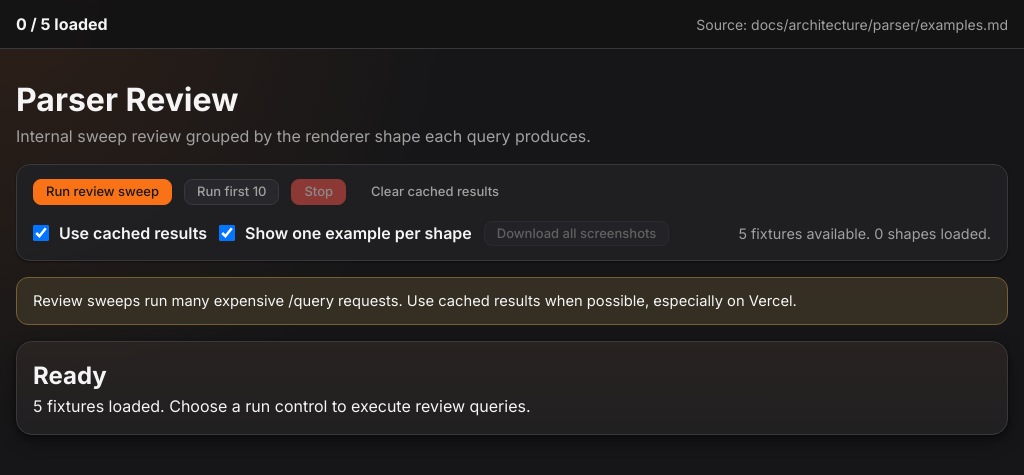
Scenario: ReviewPage › stops queued work after the current concurrency batch
The image size is (1024, 475).
Expected: the text "0 / 5 loaded" is shown, [16, 12, 108, 36]
Click the button "Run review sweep" at [102, 192], box [33, 179, 172, 205]
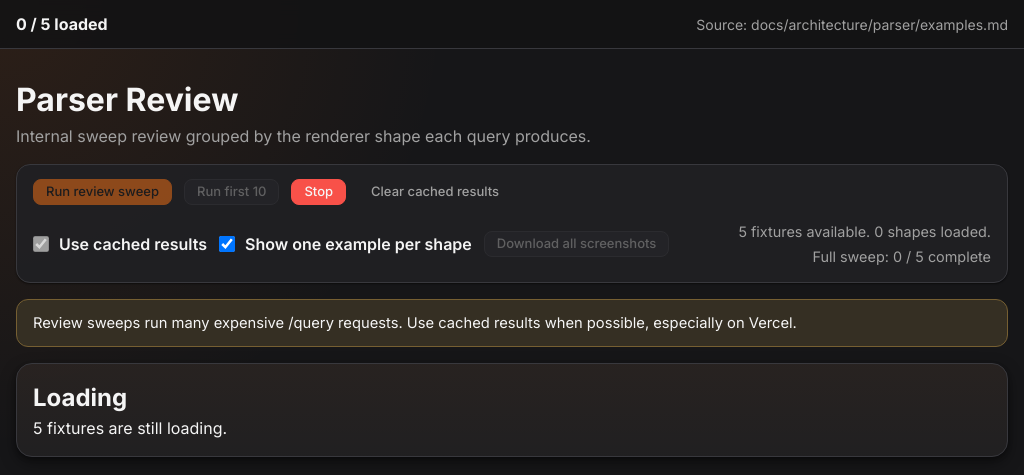
Click the button "Stop" at [319, 192], box [292, 179, 346, 205]
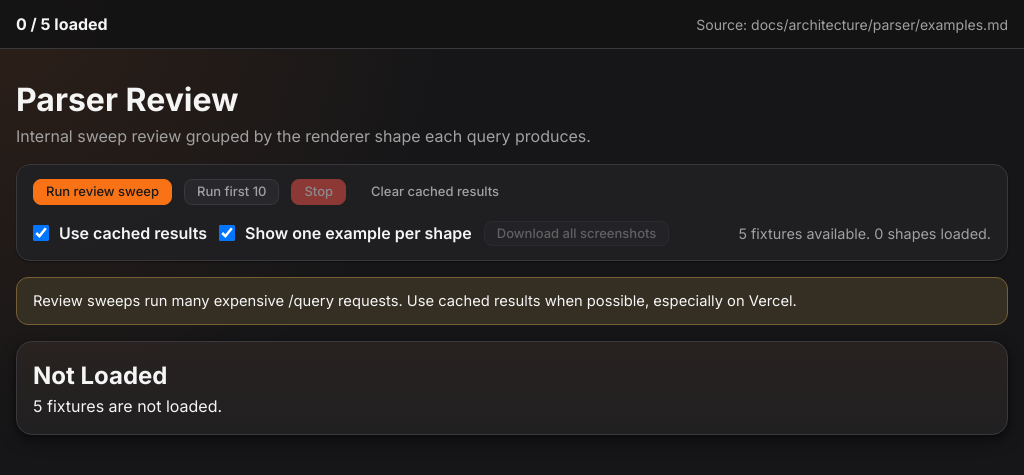
Expected: the button "Run review sweep" is enabled, [33, 179, 172, 205]
